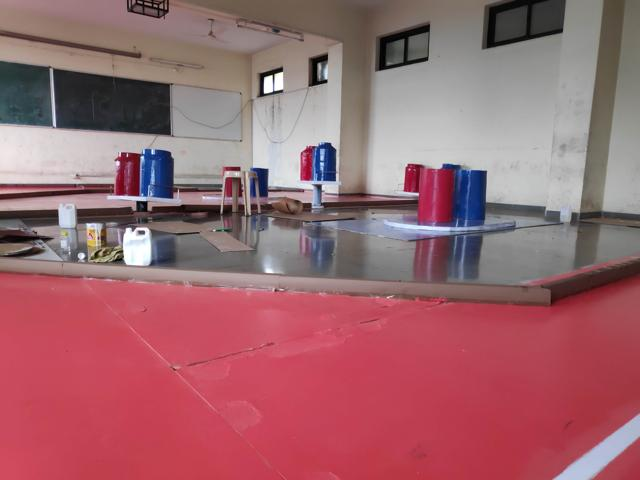Blue: (454, 170, 488, 221), (143, 149, 174, 197), (314, 142, 337, 180), (251, 167, 271, 198)
Red: (417, 167, 453, 221), (113, 152, 140, 197), (403, 162, 421, 191), (300, 146, 314, 180)
